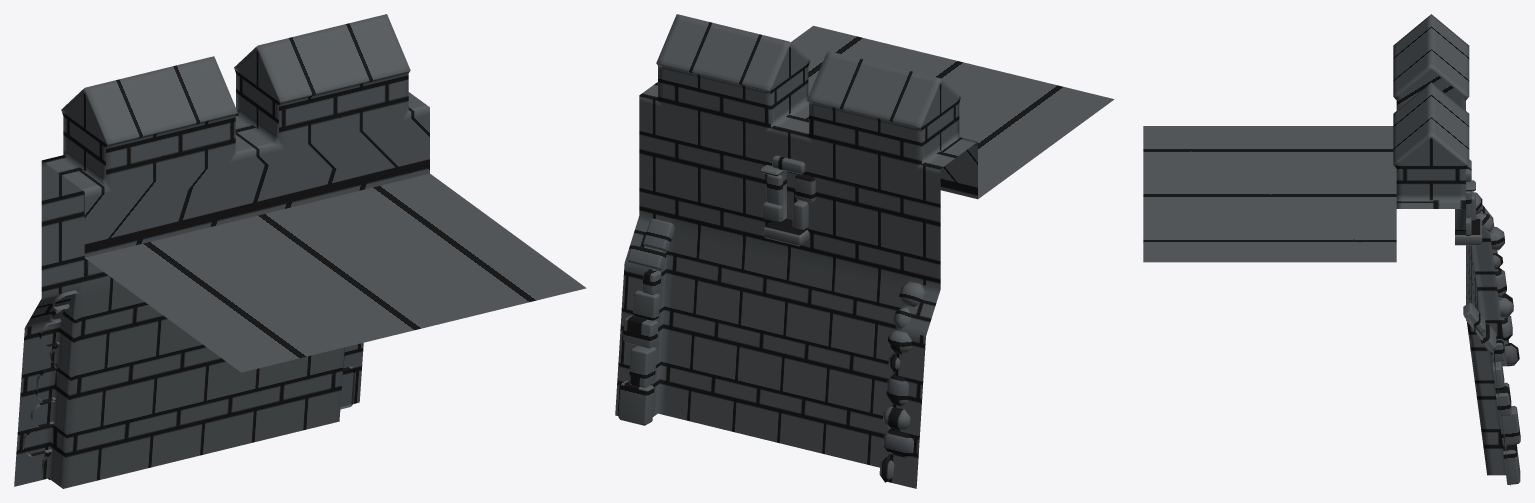
Rendered from Wall.fbx.
3 views of the same model, side by side, from view 1: azimuth 30°, elevation 25°; view 2: azimuth 150°, elevation 25°; view 3: azimuth 270°, elevation 25° (orthographic). The views are drawn at different scales.
Parts seen in each view (by area): view 1: WallBase, WallWalkway, WallShingles, WallBricks; view 2: WallBase, WallWalkway, WallShingles, WallBricks; view 3: WallWalkway, WallBase, WallShingles, WallBricks.
Part boxes in pixels (left/top/right/bottom): WallBase: left=14, top=51, right=429, bottom=488; WallWalkway: left=85, top=173, right=586, bottom=372; WallShingles: left=61, top=14, right=410, bottom=145; WallBricks: left=22, top=290, right=355, bottom=479; WallBase: left=615, top=47, right=977, bottom=488; WallWalkway: left=791, top=25, right=1114, bottom=198; WallShingles: left=656, top=14, right=960, bottom=128; WallBricks: left=618, top=155, right=924, bottom=482; WallWalkway: left=1143, top=126, right=1396, bottom=262; WallBase: left=1395, top=70, right=1510, bottom=485; WallShingles: left=1393, top=14, right=1469, bottom=166; WallBricks: left=1455, top=159, right=1520, bottom=484.
Size of the model in its own units: 3 by 3.57 by 3.51.
